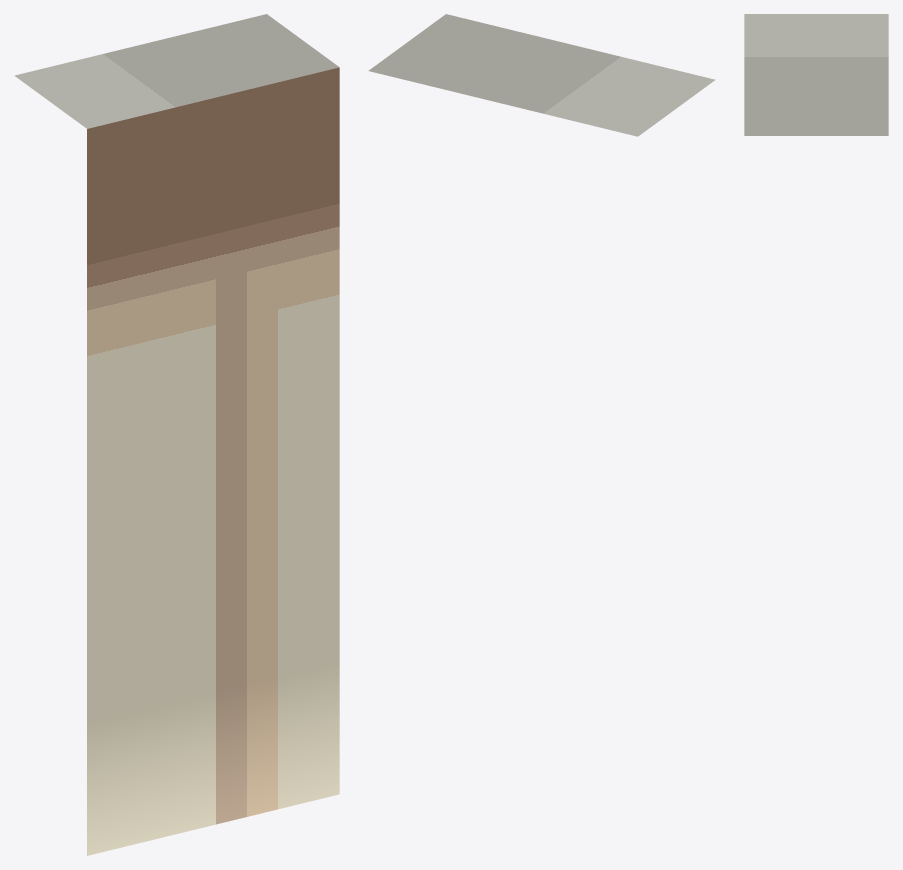
3 views of the same model, side by side, from view 1: azimuth 30°, elevation 25°; view 2: azimuth 150°, elevation 25°; view 3: azimuth 270°, elevation 25° (orthographic). The views are drawn at different scales.
Size of the model in its own units: 1 by 2.75 by 0.5.
2 materials, 2 textured.
